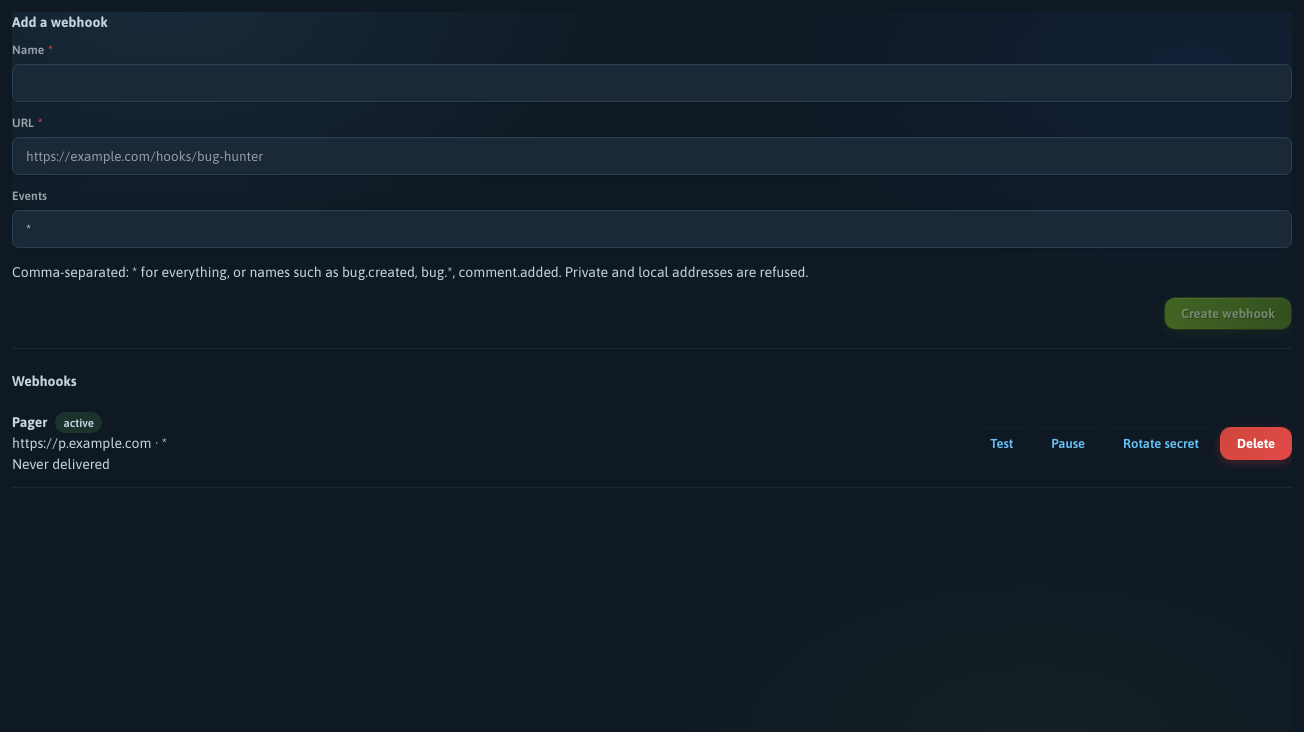
Test case: WebhooksTab › asks before rotating the secret and then shows the new one
Click the button "Rotate secret" at (1161, 444), box [1106,427,1216,460]
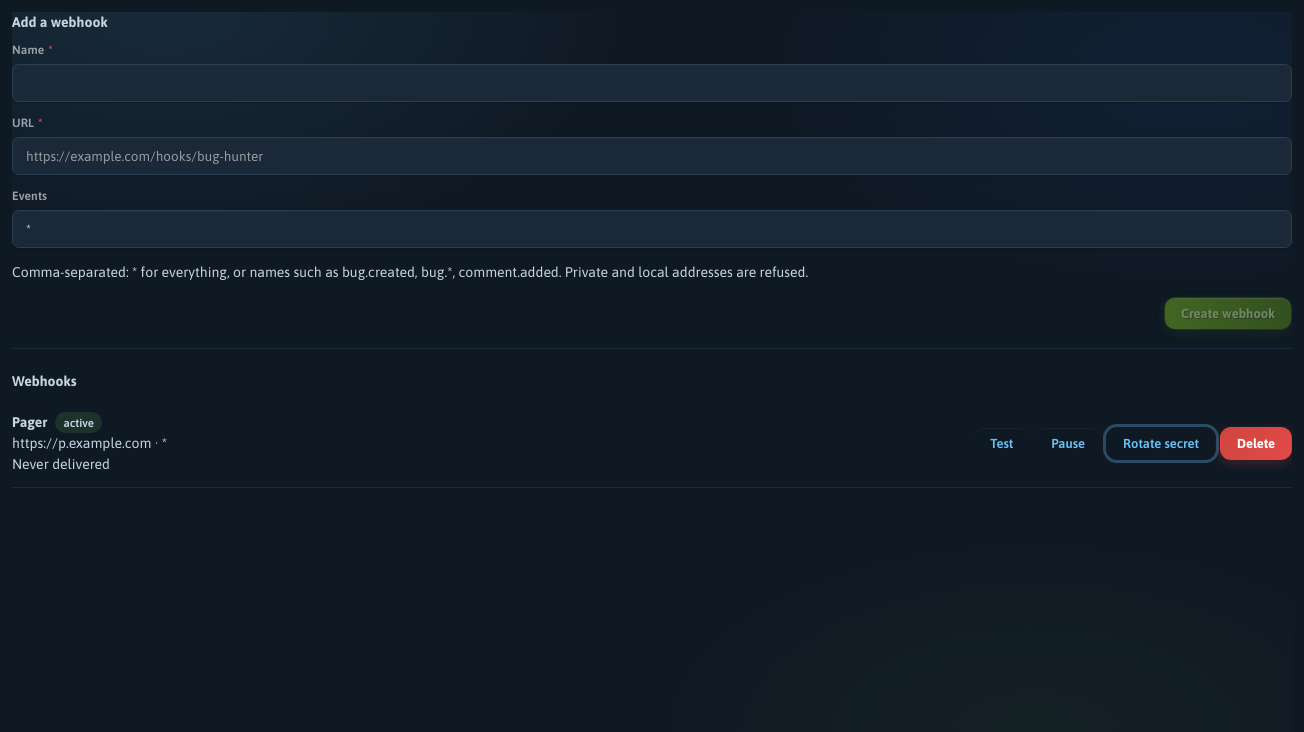
Expected: the text "fresh-secret" is not shown
Click the button "Rotate secret" at (1161, 444), box [1106,427,1216,460]
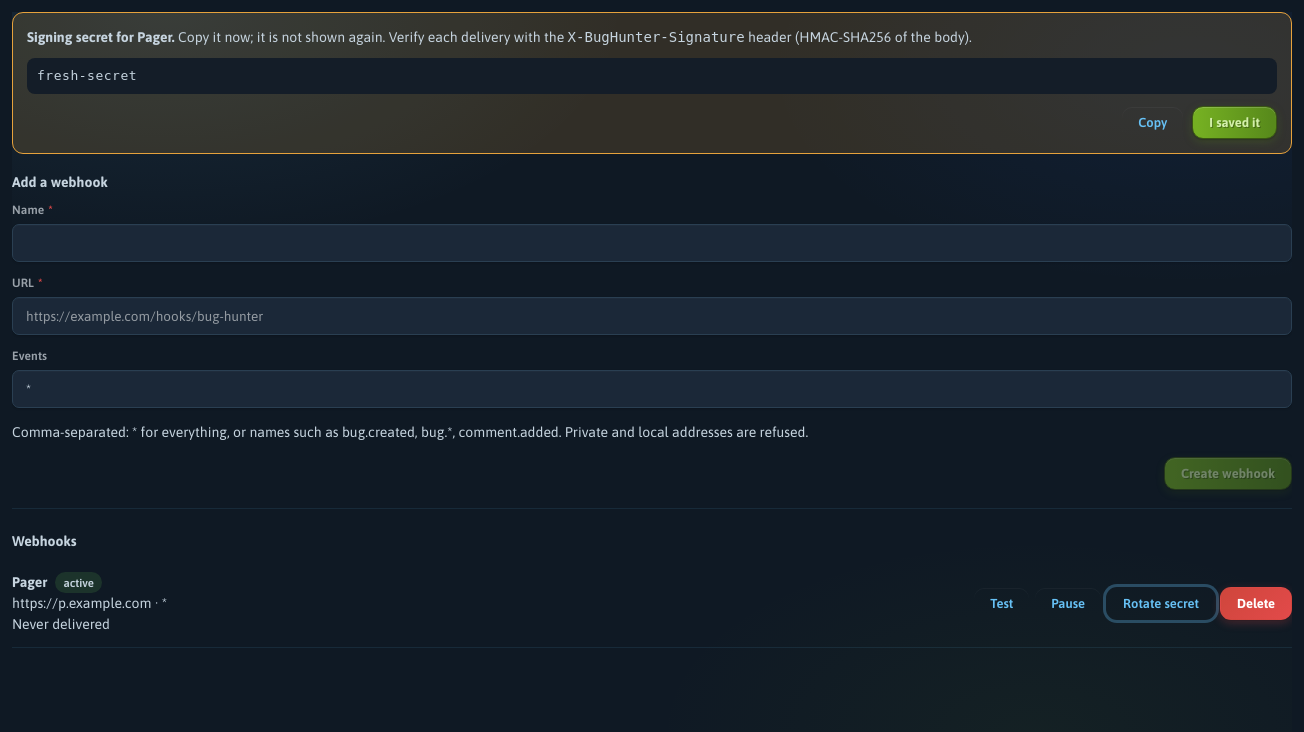
Result: the text "fresh-secret" is shown at [27,58,1277,94]
